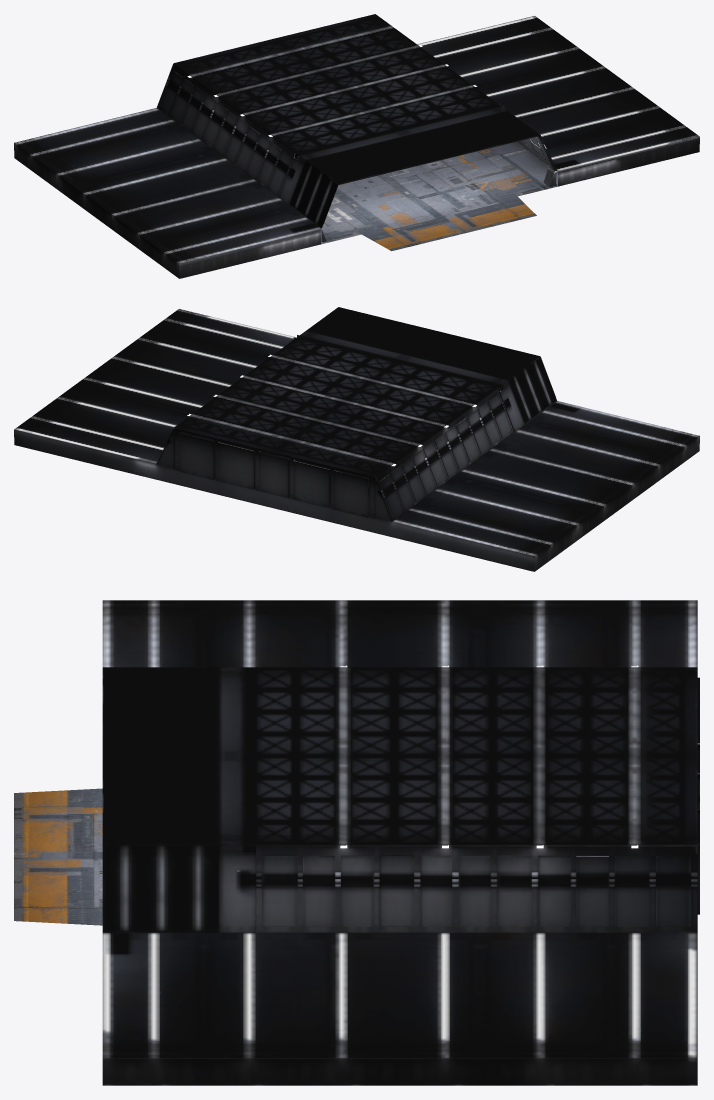
The model's file is hangar.glb.
The picture shows the model from 3 angles, top to bottom: view 1: azimuth 30°, elevation 25°; view 2: azimuth 150°, elevation 25°; view 3: azimuth 270°, elevation 25°; orthographic projection. The views are drawn at different scales.
Visible parts, largest first — view 1: Cube.003; view 2: Cube.003; view 3: Cube.003.
Part boxes in pixels (<box>): Cube.003: <box>14,14,699,278</box>; Cube.003: <box>14,307,699,571</box>; Cube.003: <box>14,600,699,1085</box>.
Size of the model in its own units: 181 by 18.63 by 115.
Materials: 1 (1 with a texture image).
